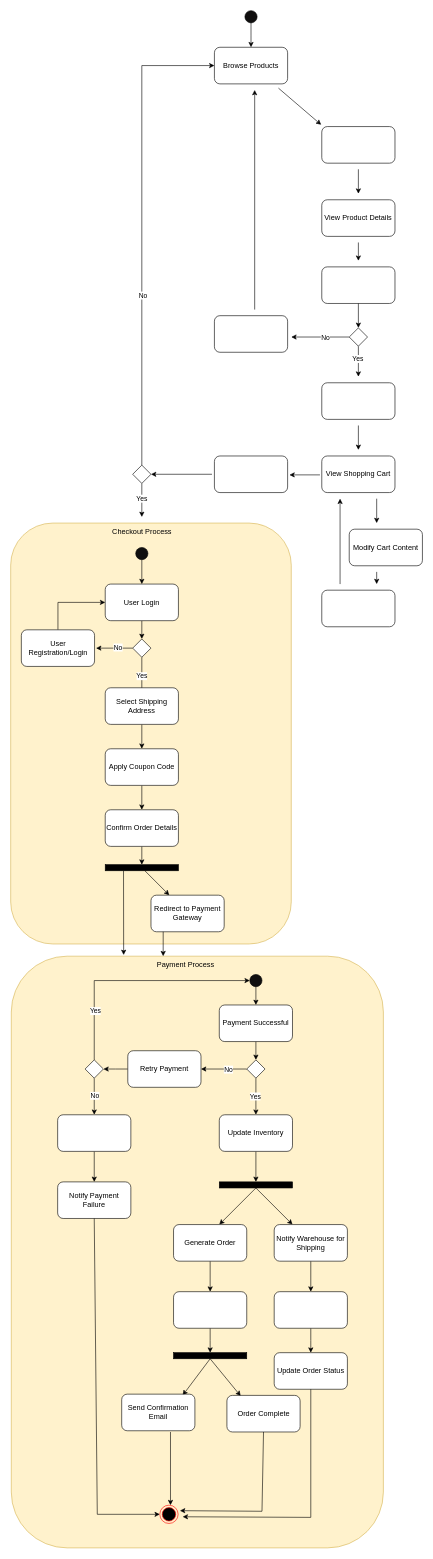
The diagram is 433 pixels wide and 1559 high, and some of its shapes have lost their labels. Each missing label, with the centre of its shape:
"Add Product to Cart" goes at [358,400].
"Add to Cart" goes at [358,284].
"Cancel Order" goes at [94,1132].
"Continue Browsing" goes at [251,333].
"Prepare Shipment" goes at [310,1309].
"Proceed to checkout" goes at [251,474].
"Search Products" goes at [358,144].
"Send Order Confirmation" goes at [210,1309].
"Update Cart" goes at [358,608].
